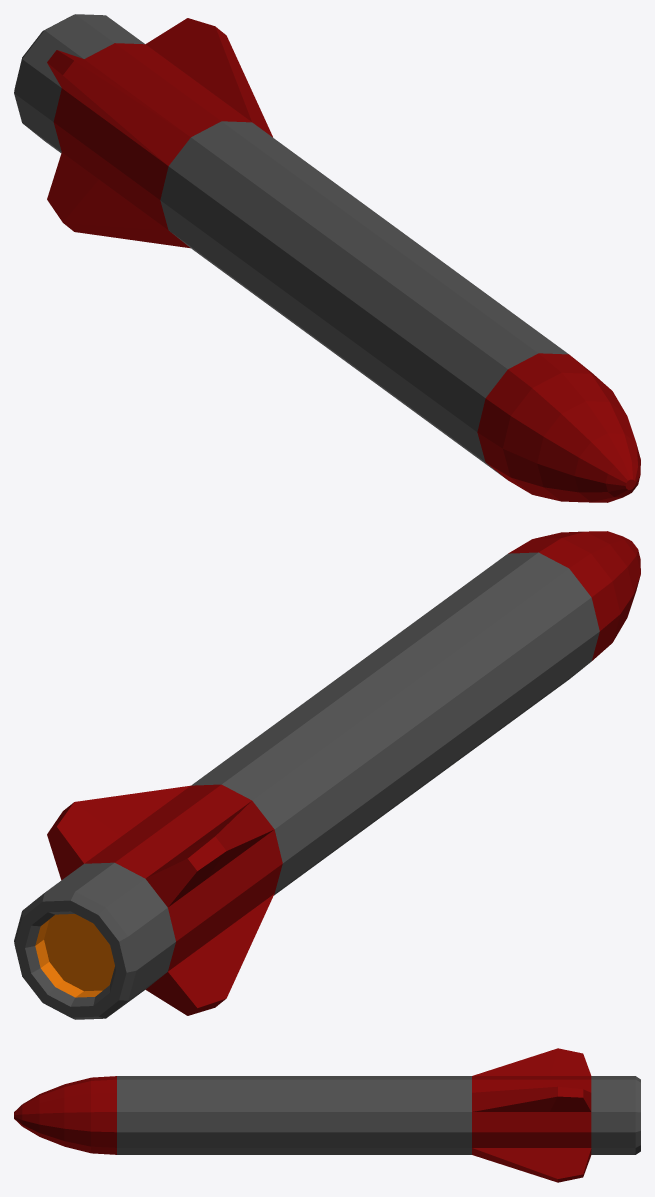
Rendered from Missile.fbx.
3 views of the same model, one above another, from view 1: azimuth 30°, elevation 25°; view 2: azimuth 150°, elevation 25°; view 3: azimuth 270°, elevation 25° (orthographic). The views are drawn at different scales.
Visible parts, largest first — view 1: Missile; view 2: Missile; view 3: Missile.
Boxes of the visible parts, x1,y1,x2,y2 form: Missile: (14,14,640,502); Missile: (14,531,640,1019); Missile: (14,1048,640,1182).
Bounding box in the file's own units: 0.0959 × 0.568 × 0.0959.
